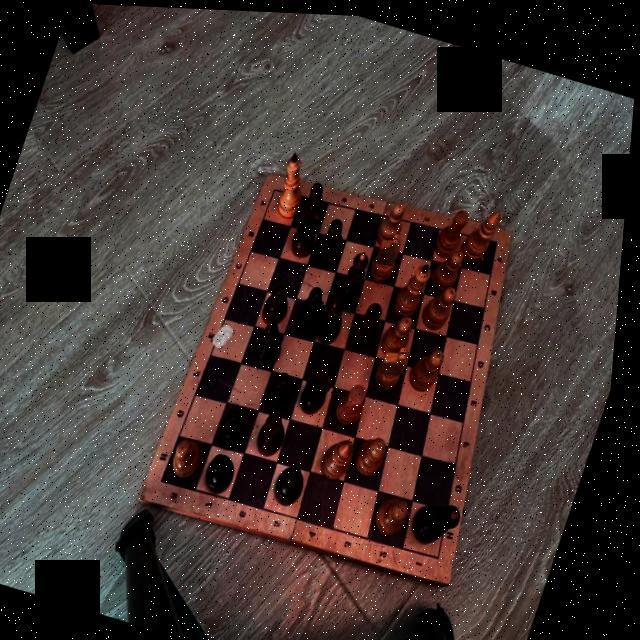chess-table-corners: (440, 546, 452, 561), (495, 231, 506, 242), (164, 474, 174, 485), (272, 182, 282, 192)
